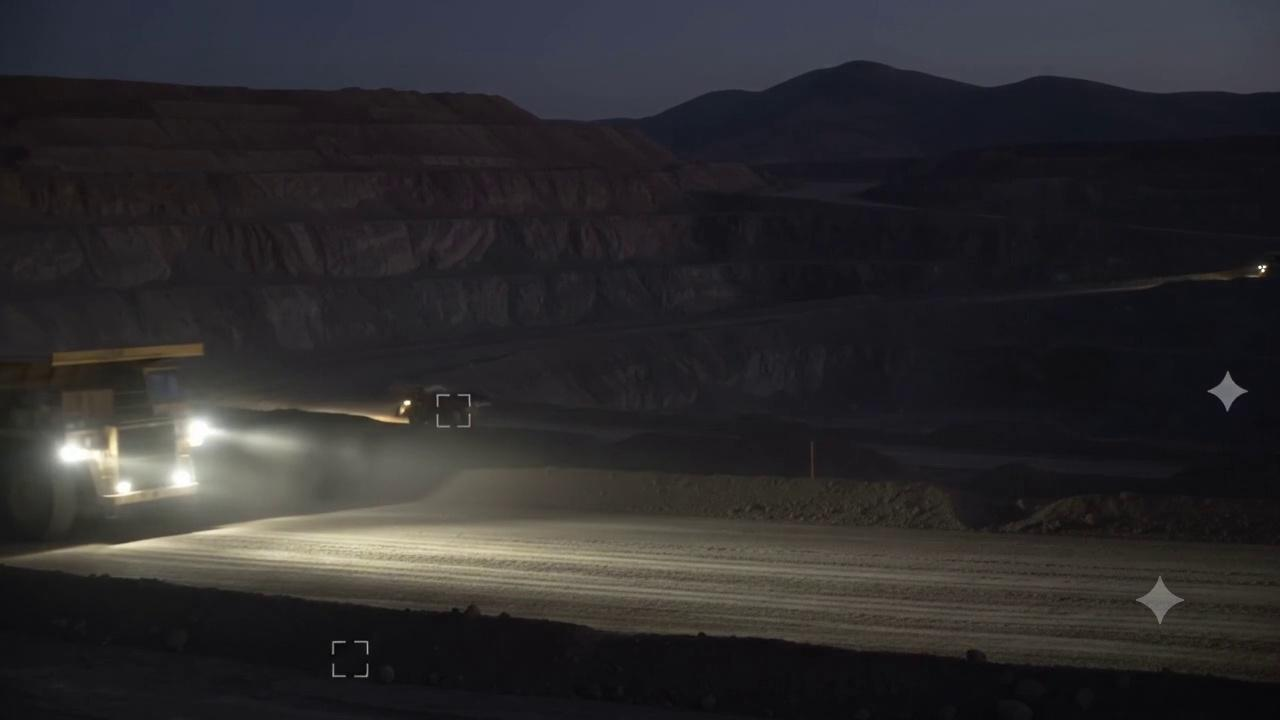CAEX: (1, 342, 206, 542)
